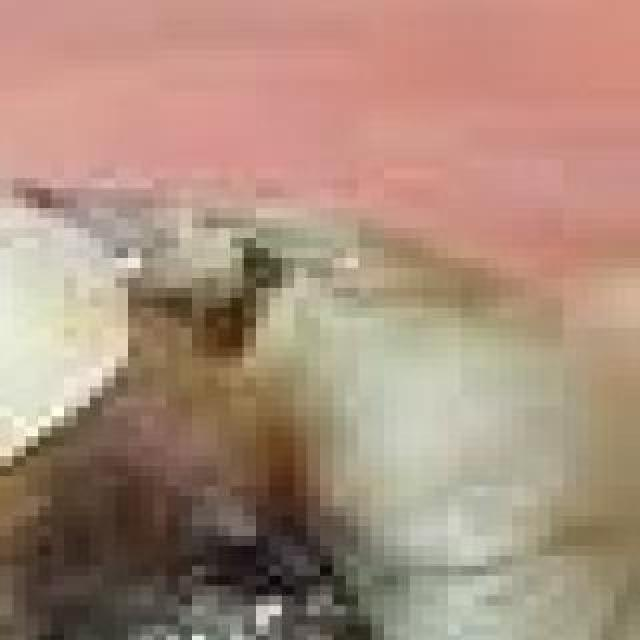cavities: (0, 138, 590, 640)
